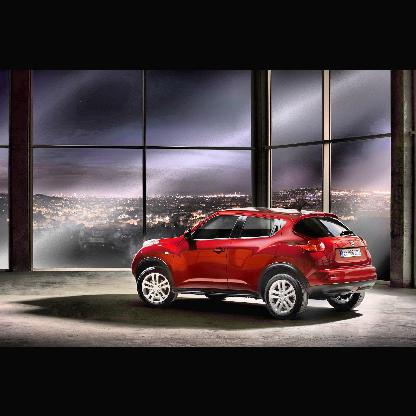Nissan Juke Hatchback 2012: (133, 206, 378, 318)
